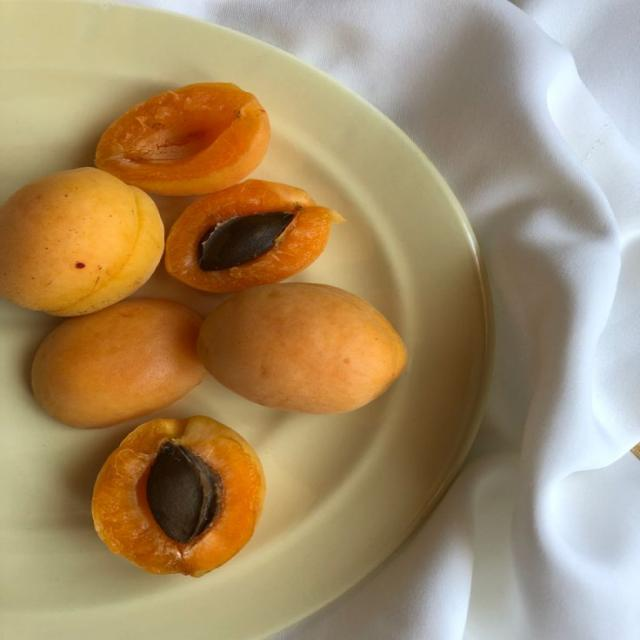kayisi: (194, 282, 407, 416), (92, 415, 267, 578), (0, 166, 167, 319), (30, 303, 207, 430), (92, 83, 272, 200), (164, 185, 337, 294)
kayisicekirdegi: (148, 441, 219, 544), (200, 214, 289, 268)
